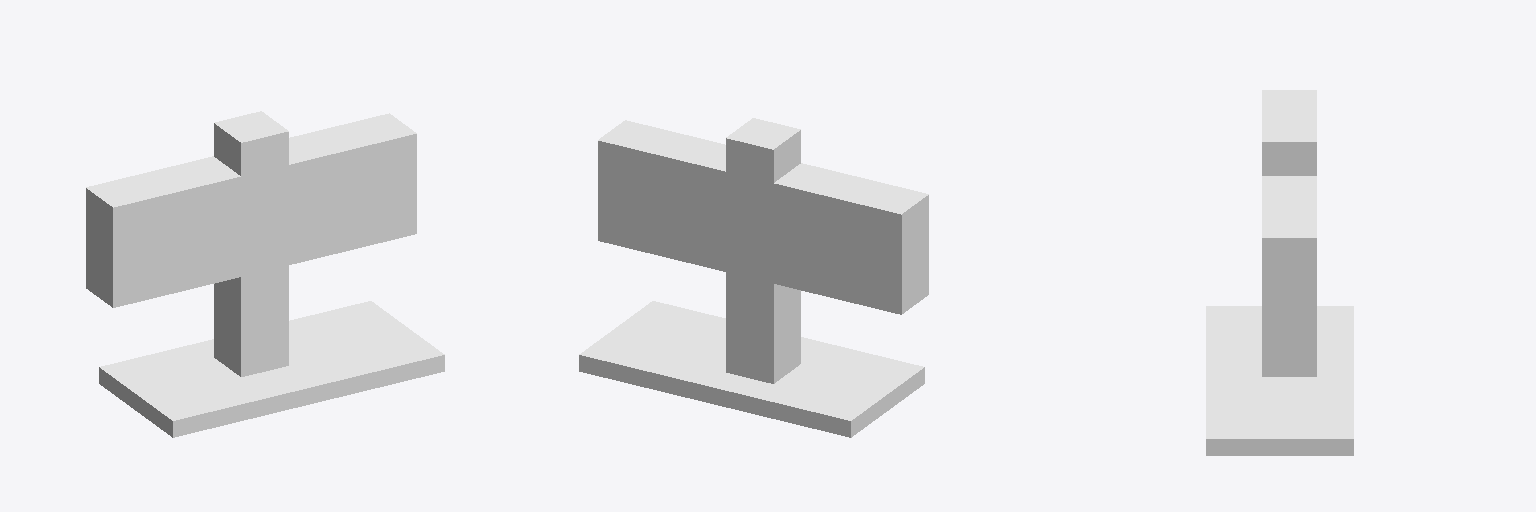
The model's file is info.obj.
3 renders of one model, left to right at view 1: azimuth 30°, elevation 25°; view 2: azimuth 150°, elevation 25°; view 3: azimuth 270°, elevation 25°, orthographic.
Parts seen in each view (by area): view 1: object 1; view 2: object 1; view 3: object 1.
Boxes of the visible parts, x1,y1,x2,y2 form: object 1: [86, 111, 444, 437]; object 1: [579, 118, 928, 437]; object 1: [1206, 90, 1353, 455].
Size of the model in its own units: 1.9 by 1.5 by 0.8.